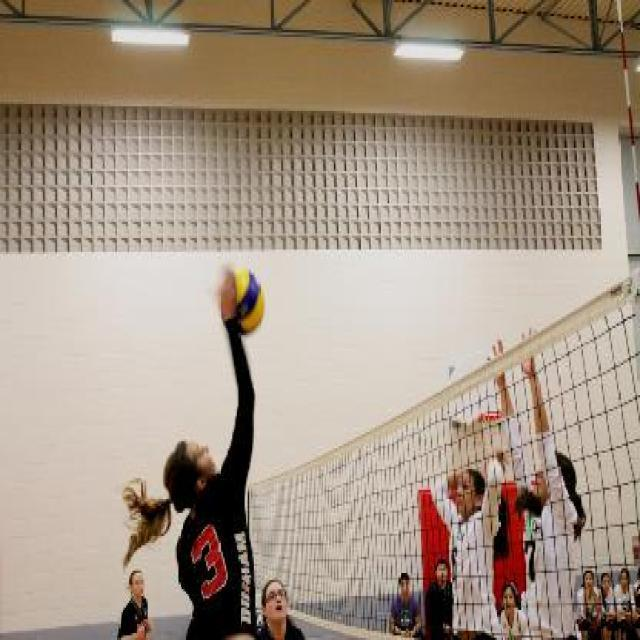volleyball: (233, 268, 264, 336)
